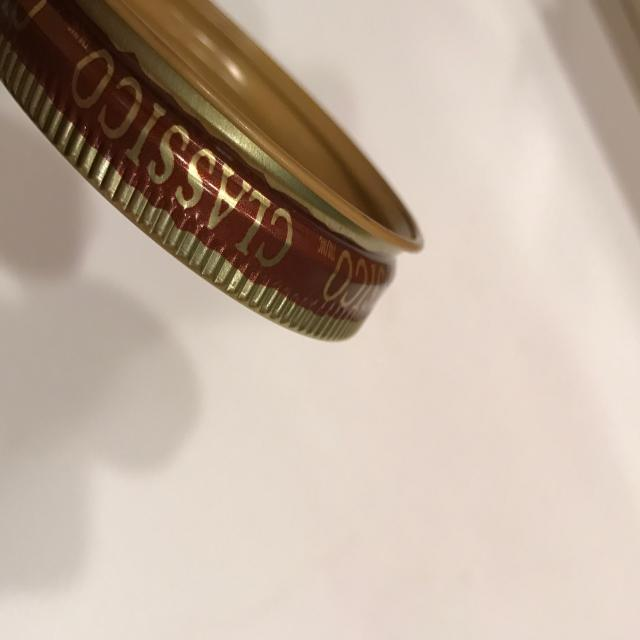metal: (1, 1, 426, 349)
